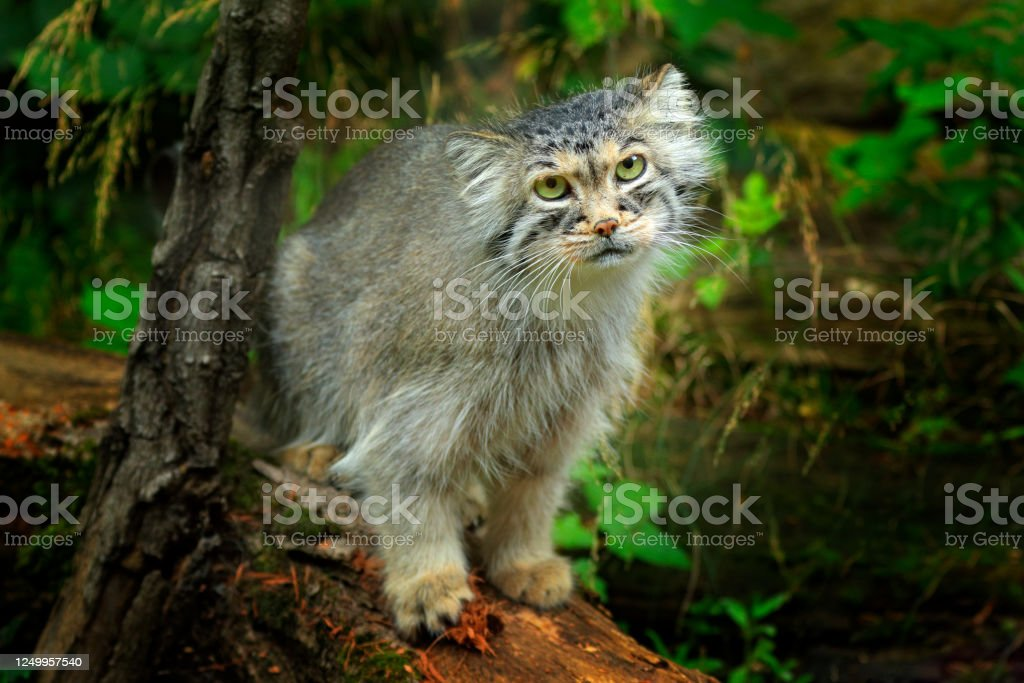cat: (220, 46, 720, 626)
